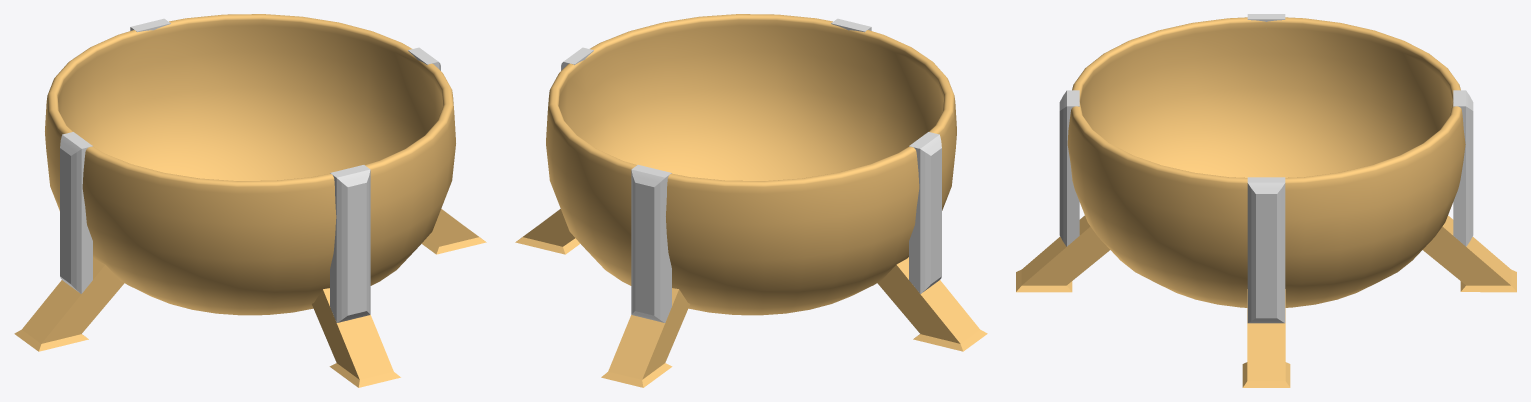
File: ball_receive.fbx
3 renders of one model, left to right at view 1: azimuth 30°, elevation 25°; view 2: azimuth 150°, elevation 25°; view 3: azimuth 270°, elevation 25°, orthographic. The views are drawn at different scales.
Visible parts, largest first — view 1: Bowl, Cube.002, Cube.003; view 2: Bowl, Cube.001, Cube.003; view 3: Bowl, Cube, Cube.002, Cube.001.
Boxes of the visible parts, x1,y1,x2,y2 form: Bowl: (14, 14, 486, 387); Cube.002: (330, 165, 370, 322); Cube.003: (60, 132, 92, 293); Bowl: (515, 14, 987, 387); Cube.001: (631, 164, 671, 322); Cube.003: (909, 132, 941, 293); Bowl: (1016, 17, 1516, 387); Cube: (1247, 177, 1285, 323); Cube.002: (1059, 90, 1079, 246); Cube.001: (1453, 90, 1473, 246).
Bounding box in the file's own units: 306 × 124 × 306.
